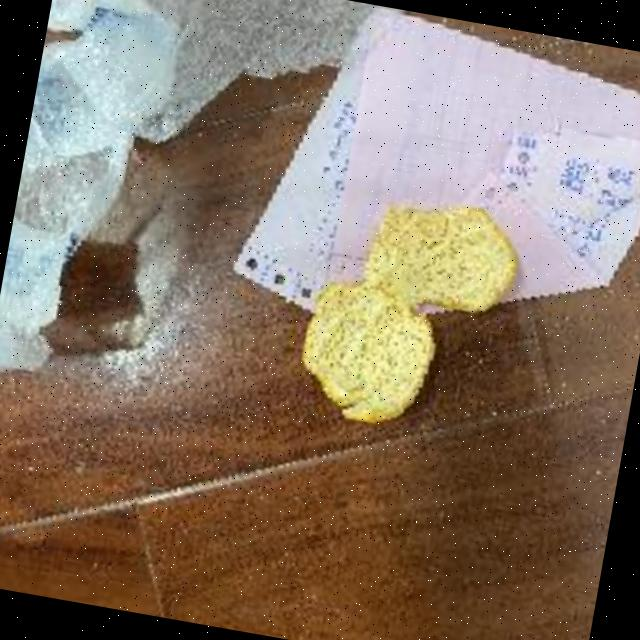orange-peel: (286, 175, 530, 446)
